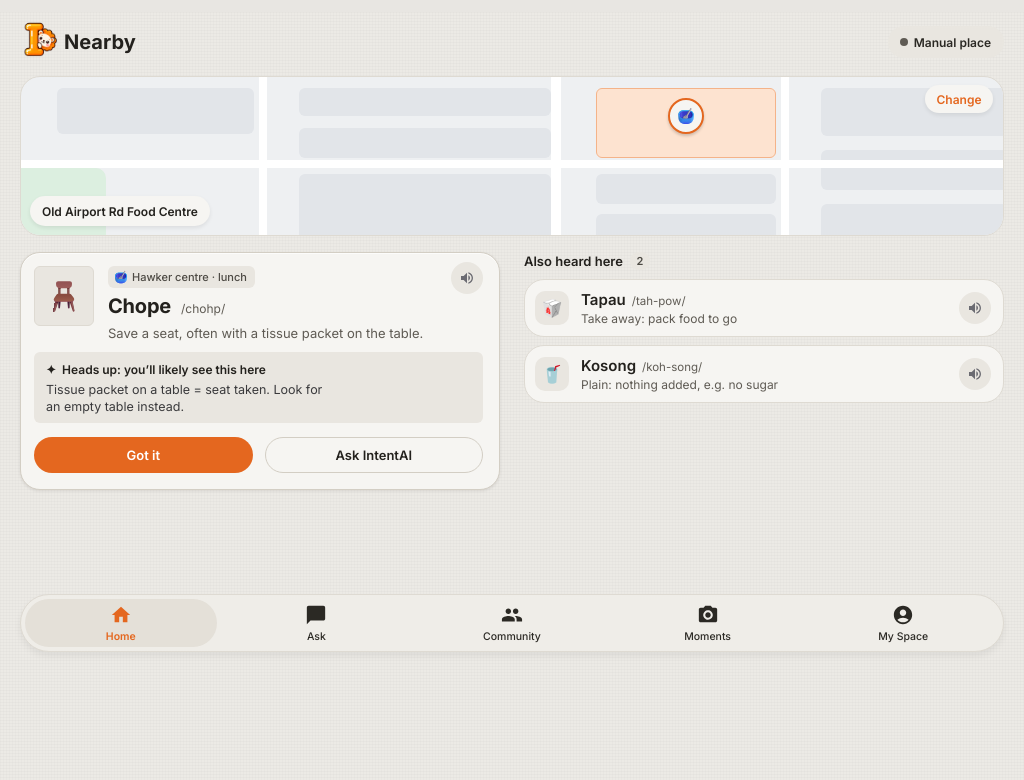
Test: Got it on a phrase already in Moments keeps one copy and offers no undo
Click the button "Got it".
click(143, 455)  # box [34,437,252,473]
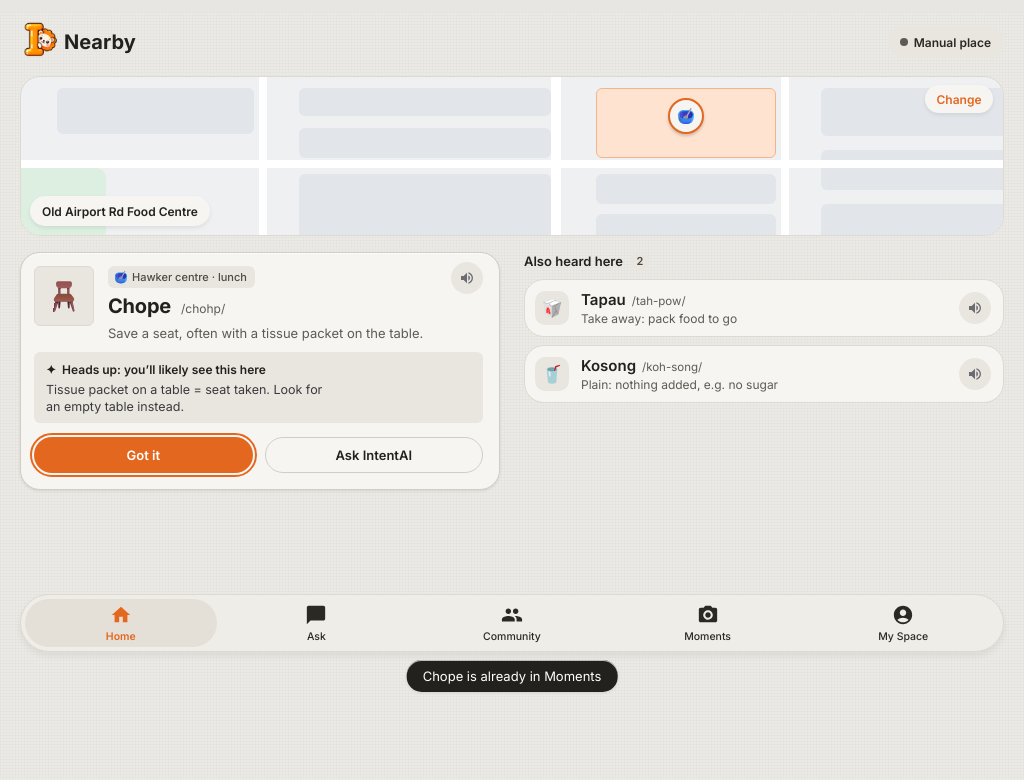
Now the message reads "Chope is already in Moments", box [423,668,601,684]
